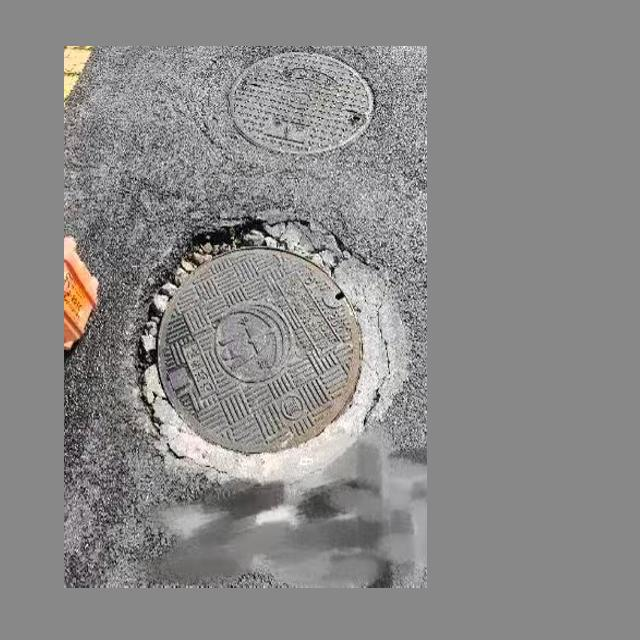circle: (136, 219, 405, 494)
good: (226, 50, 378, 155)
